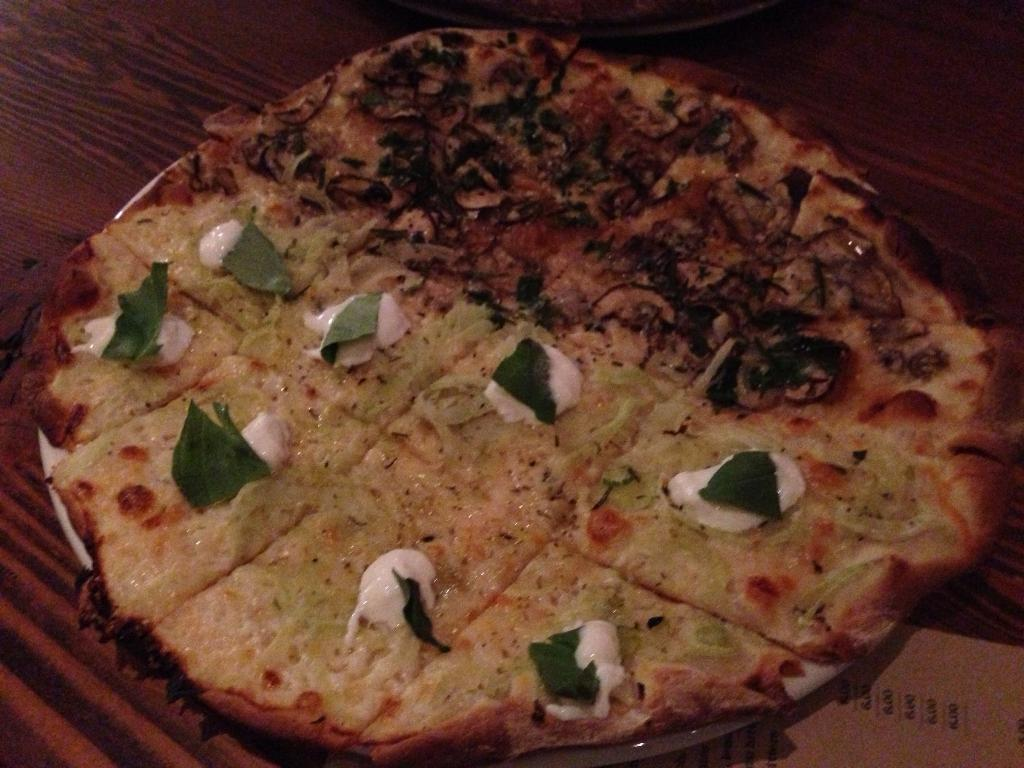Pizza: (16, 46, 1018, 767)
